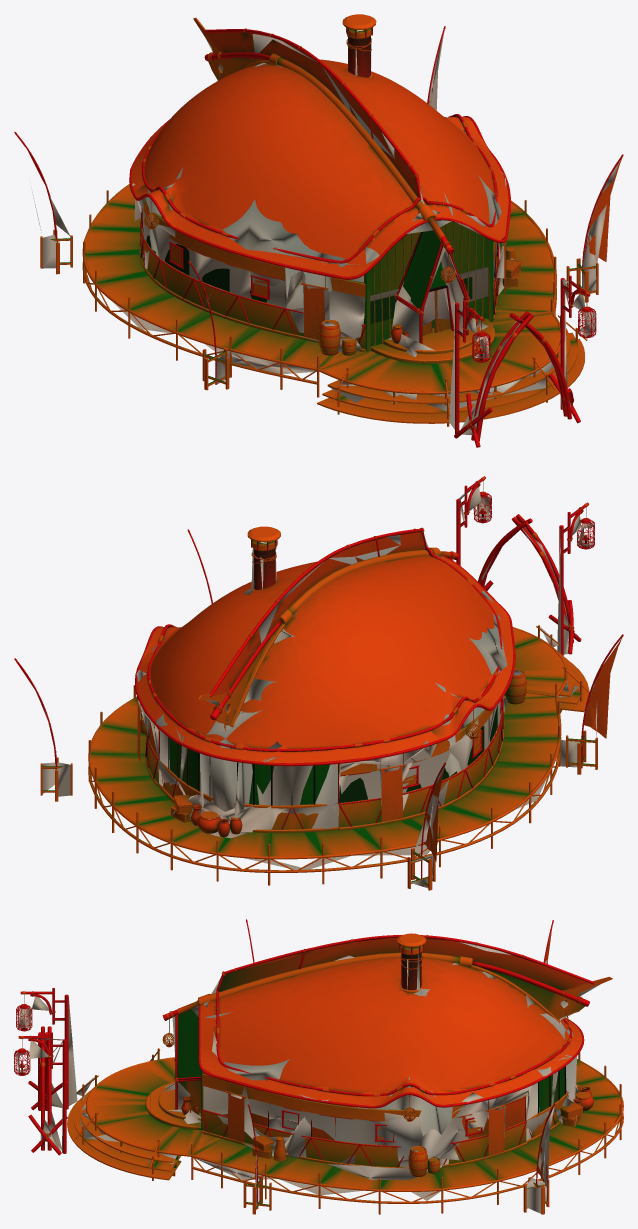
File: KB3D_GAE_BldgSM_D.glb
3 renders of one model, top to bottom at view 1: azimuth 30°, elevation 25°; view 2: azimuth 150°, elevation 25°; view 3: azimuth 270°, elevation 25°, orthographic. The views are drawn at different scales.
Visible parts, largest first — view 1: L0, L1, L2; view 2: L0, L2, L1; view 3: L0, L1, L2.
Part boxes in pixels (x1,y1,x2,y2): L0: [14, 14, 623, 447]; L1: [16, 17, 622, 446]; L2: [32, 33, 619, 435]; L0: [14, 476, 623, 890]; L2: [35, 487, 616, 888]; L1: [16, 481, 623, 890]; L0: [14, 919, 623, 1214]; L1: [14, 926, 622, 1214]; L2: [17, 929, 600, 1213].
Size of the model in its own units: 16.7 by 8.96 by 23.2.
